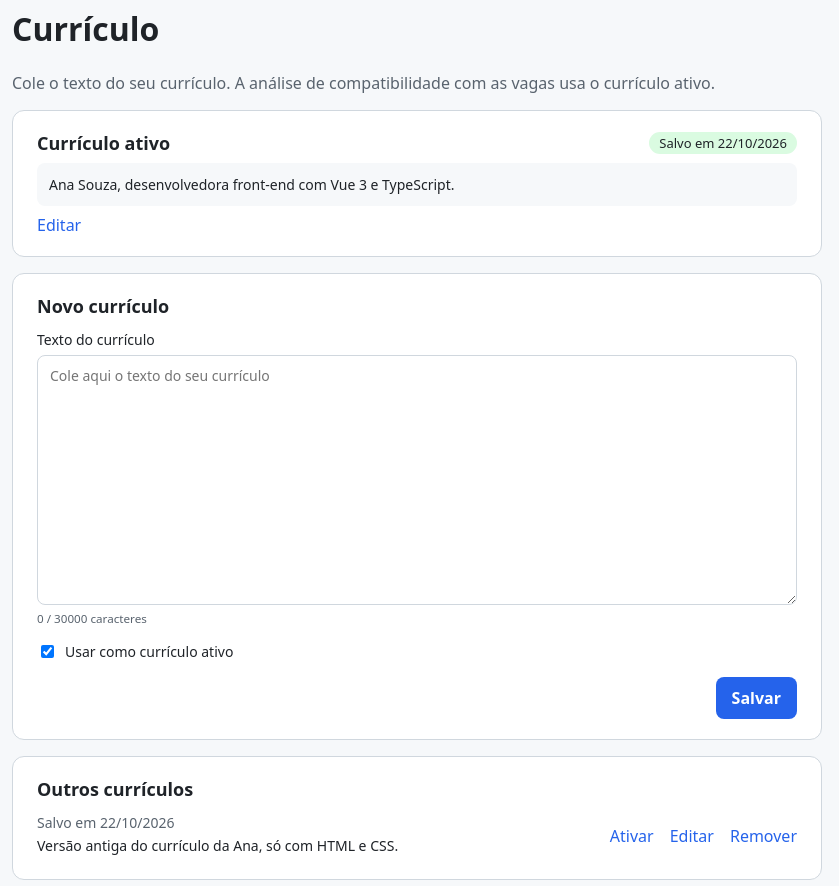
CurriculoView › ativar › ativa o currículo escolhido e recarrega a lista
Click the button with test id "ativar": (632,836) [610,813,654,859]
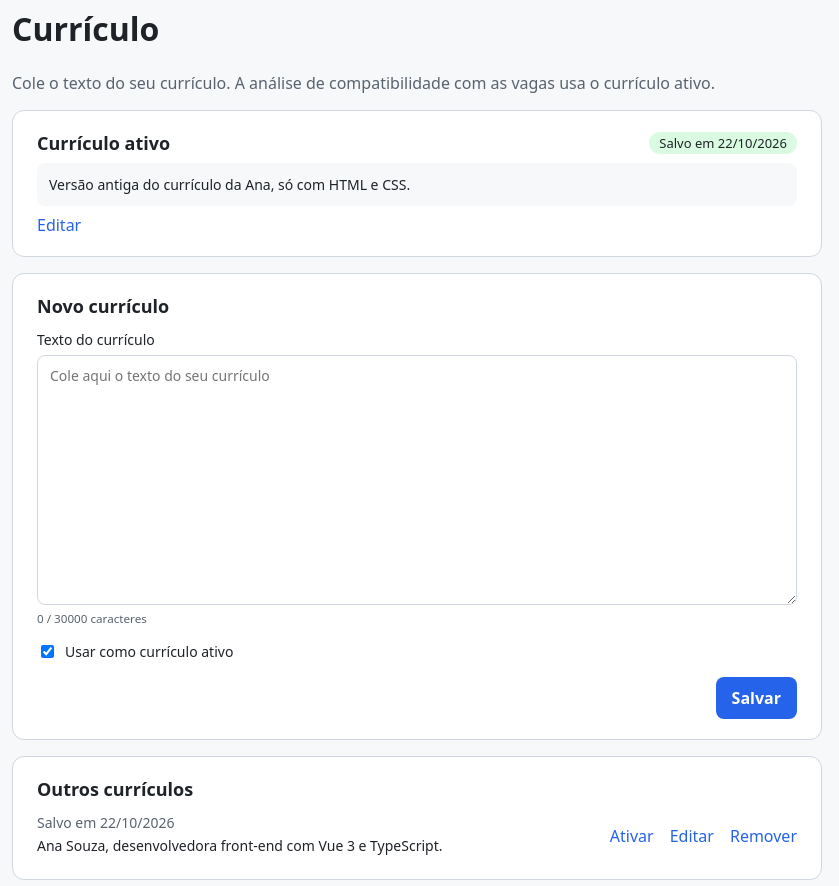
Expected: the text with test id "ativo-texto" reads "Versão antiga do currículo da Ana, só com HTML e CSS.", [49,175,410,194]
